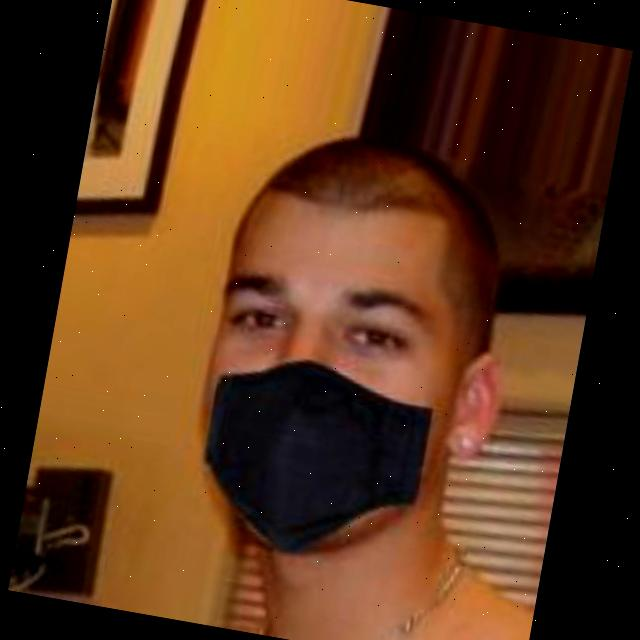suspicion: (176, 114, 545, 573)
